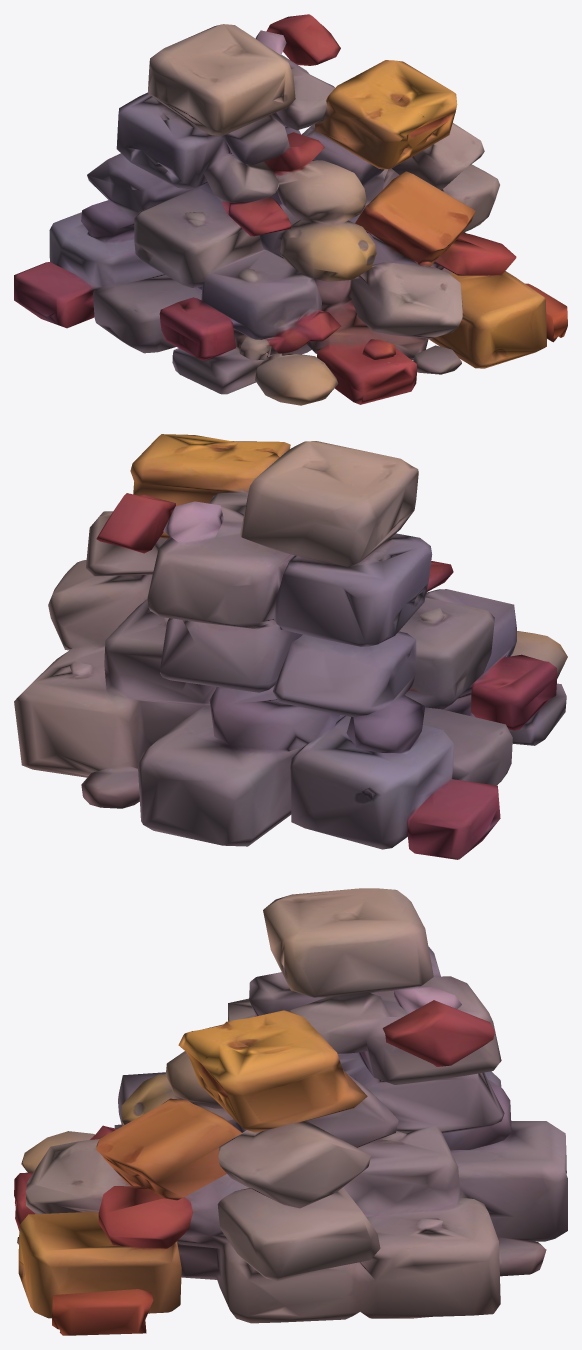
File: cr_rubble-gH2CYOkB.glb
The picture shows the model from 3 angles, top to bottom: view 1: azimuth 30°, elevation 25°; view 2: azimuth 150°, elevation 25°; view 3: azimuth 270°, elevation 25°; orthographic projection. The views are drawn at different scales.
Parts seen in each view (by area): view 1: tripo_node_37383f51-2ca6-4a2d-b3c2-ed294d7075ee; view 2: tripo_node_37383f51-2ca6-4a2d-b3c2-ed294d7075ee; view 3: tripo_node_37383f51-2ca6-4a2d-b3c2-ed294d7075ee.
Part boxes in pixels (x1,y1,x2,y2): tripo_node_37383f51-2ca6-4a2d-b3c2-ed294d7075ee: (14, 14, 567, 405); tripo_node_37383f51-2ca6-4a2d-b3c2-ed294d7075ee: (14, 434, 567, 859); tripo_node_37383f51-2ca6-4a2d-b3c2-ed294d7075ee: (14, 888, 567, 1335).
Size of the model in its own units: 3.3 by 2 by 3.3.
Materials: 1 (1 with a texture image).
